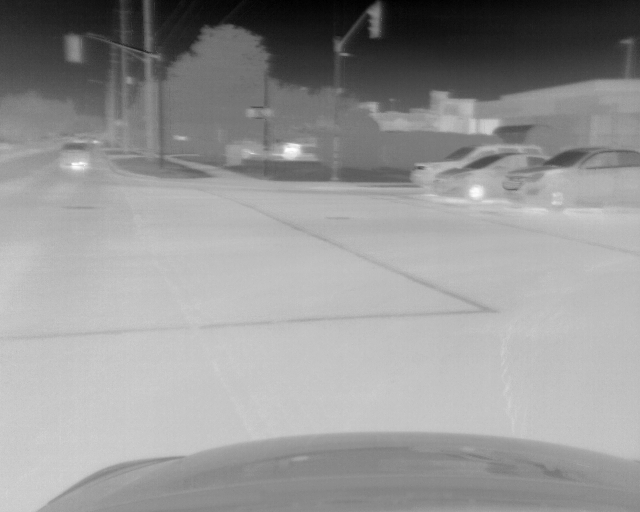car: (504, 147, 640, 212), (413, 144, 540, 191), (430, 152, 550, 200), (60, 140, 89, 167)
